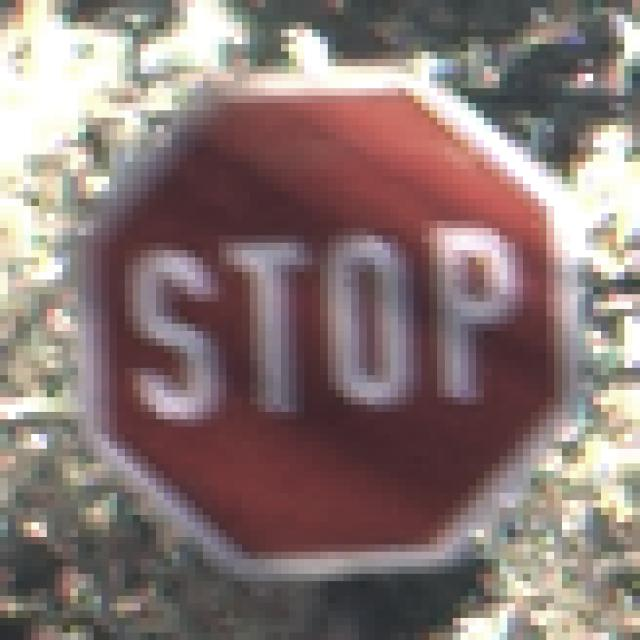STOP: (56, 60, 579, 589)
